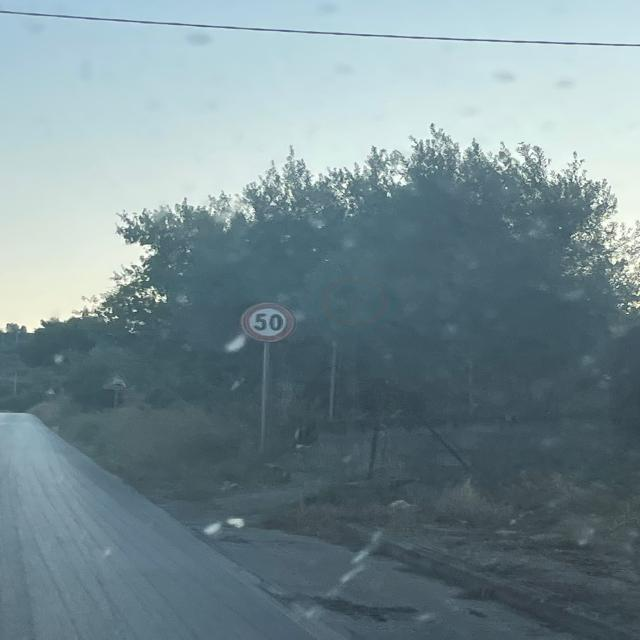forb_speed_over_50: (240, 302, 295, 343)
